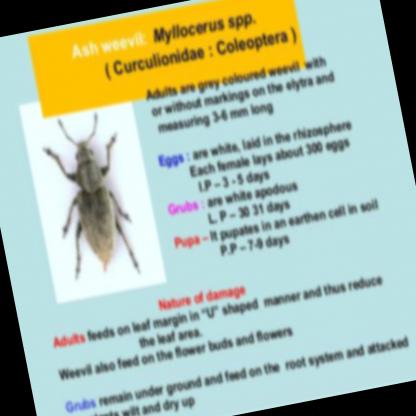ash weevil: (46, 123, 138, 274)
